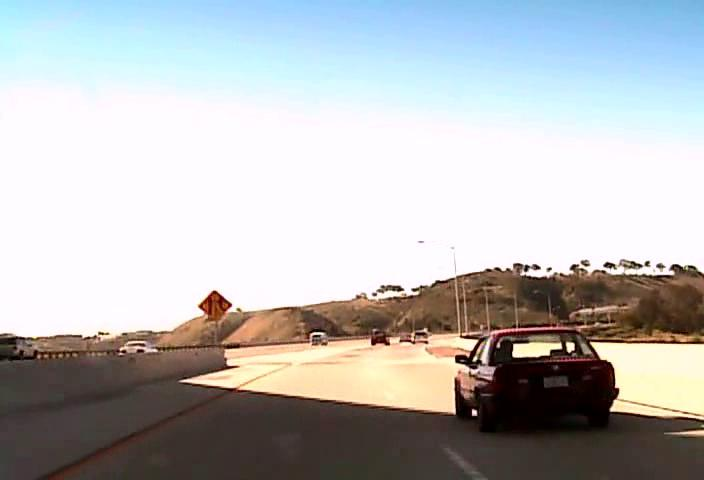addedLane: (197, 289, 233, 323)
